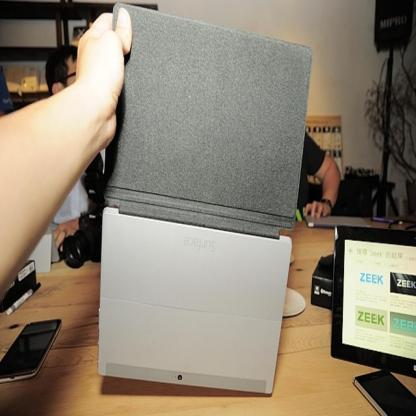board: (100, 0, 314, 393)
